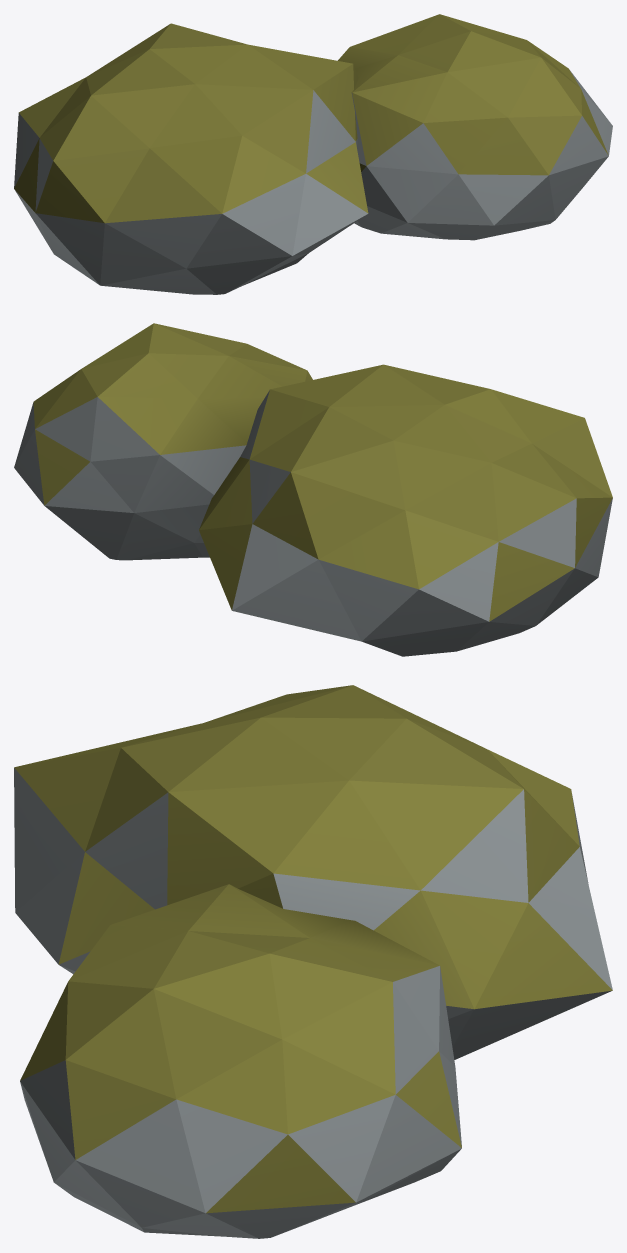
The model's file is rock_mossy_b_low.glb.
3 renders of one model, top to bottom at view 1: azimuth 30°, elevation 25°; view 2: azimuth 150°, elevation 25°; view 3: azimuth 270°, elevation 25°, orthographic. The views are drawn at different scales.
Bounding box in the file's own units: 3.17 × 0.9359 × 1.97.
